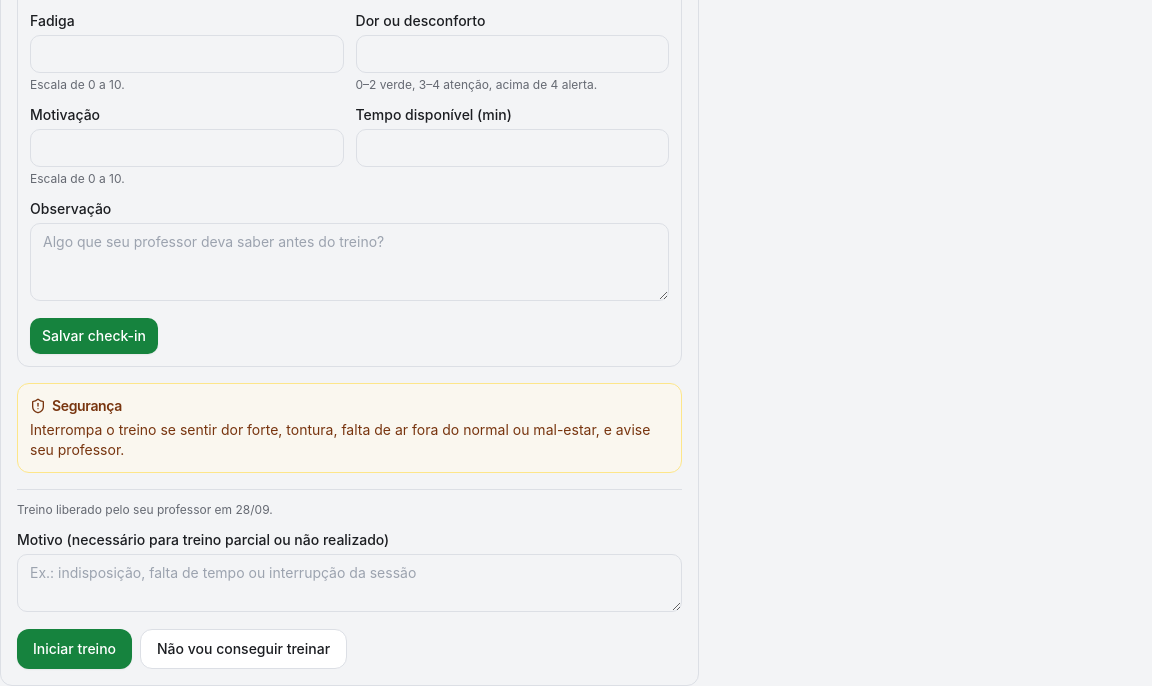
TrainingRoutinePanel (#387) › informa gravação confirmada mesmo quando a leitura posterior falha, sem repetir a mutação
(page scrolled)
Click the button "Iniciar treino". click: {"x": 74, "y": 649}
box: [17,629,132,669]
(page scrolled)
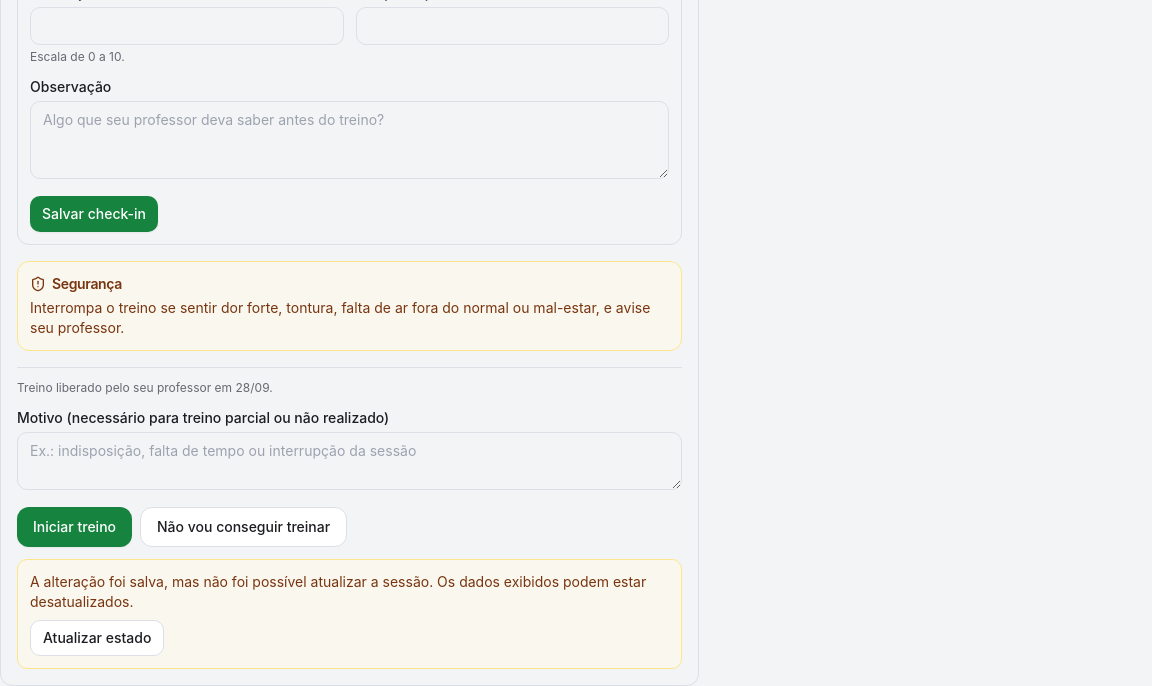
Expected: the text "A alteração foi salva, mas não foi possível atualizar a sessão" is shown, [30,573,646,610]
Click the button "Atualizar estado". click: {"x": 97, "y": 638}
box: [30,620,164,656]
(page scrolled)
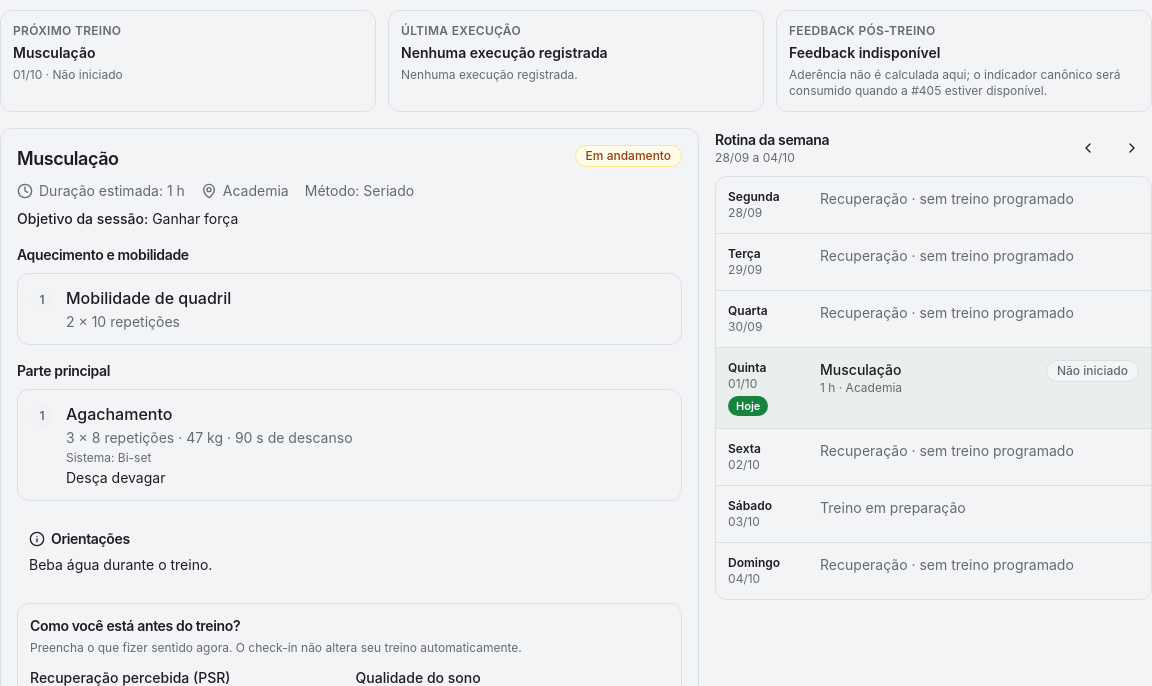
Expected: the text "Em andamento" is shown, [575,145,682,167]
